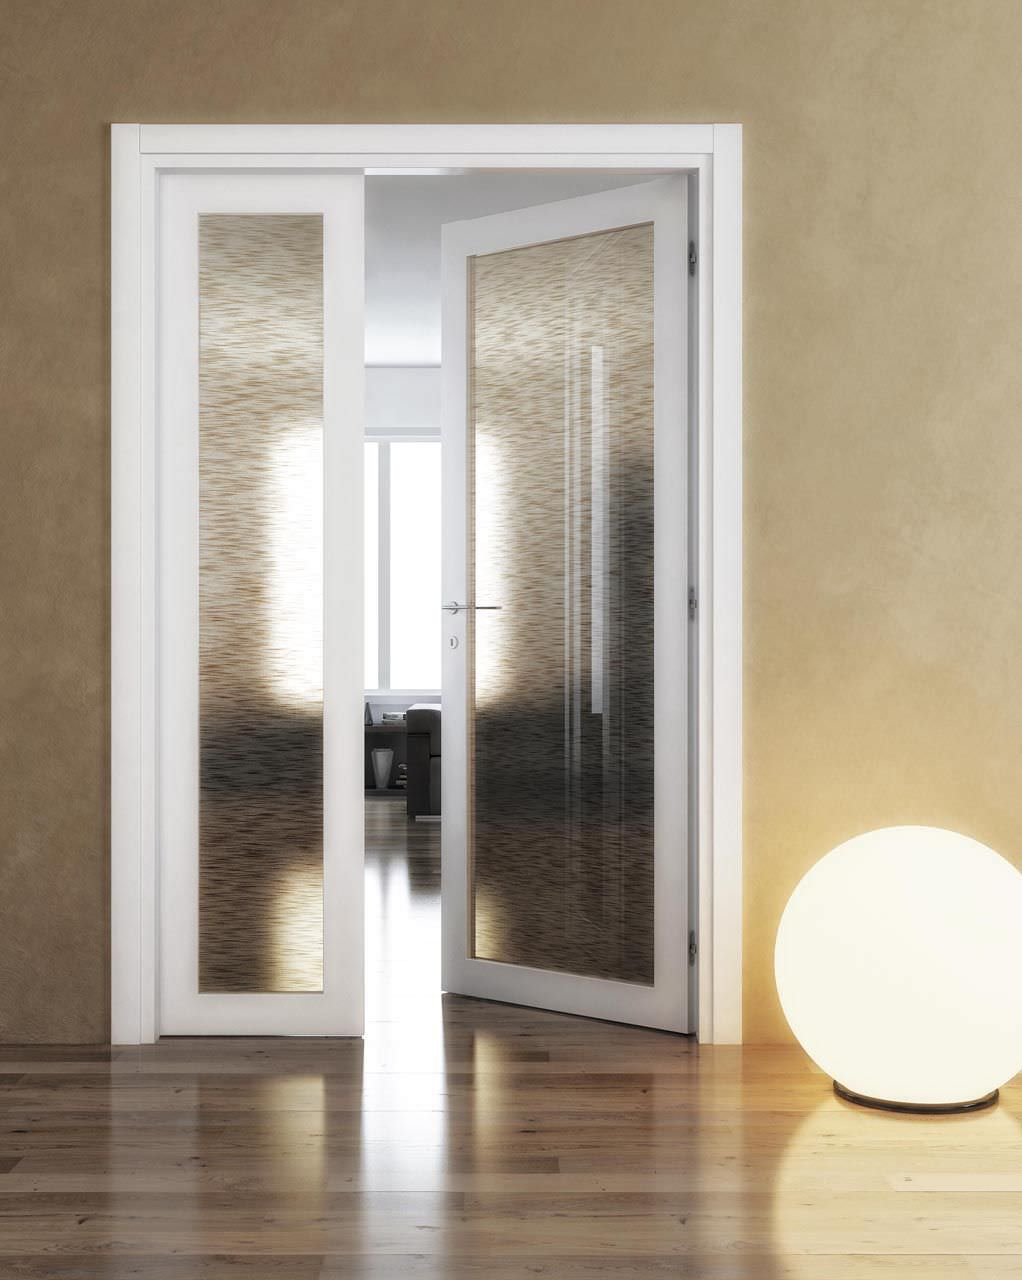door: (445, 207, 688, 1010)
